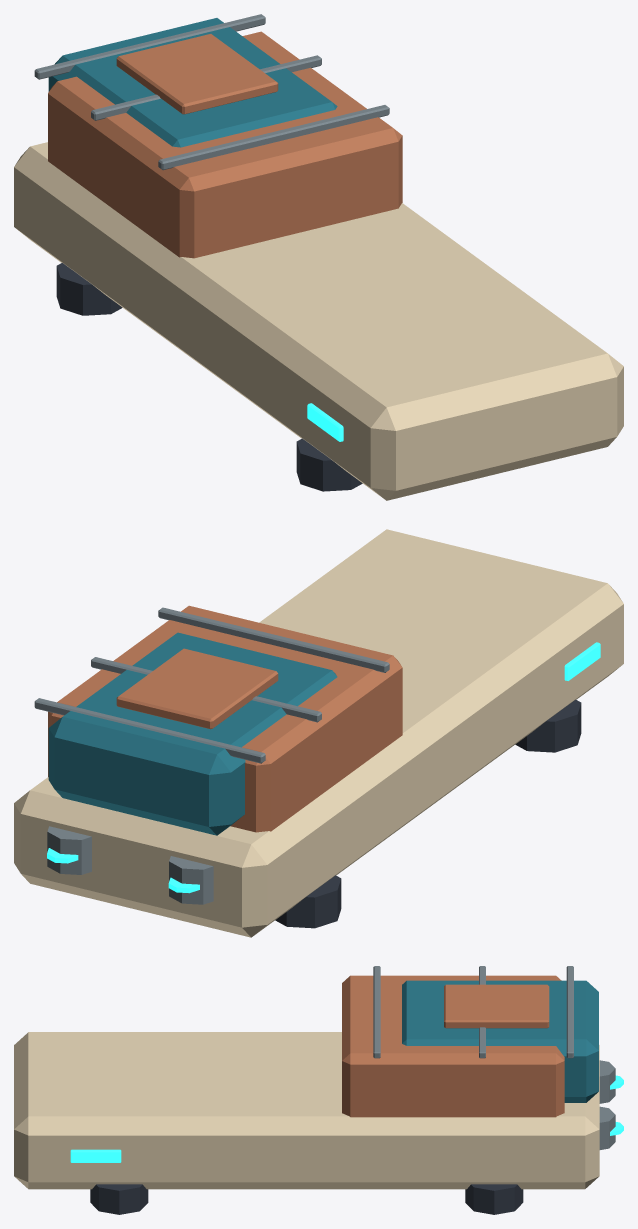
Rendered from vehicles_011_seed11.glb.
3 renders of one model, top to bottom at view 1: azimuth 30°, elevation 25°; view 2: azimuth 150°, elevation 25°; view 3: azimuth 270°, elevation 25°, orthographic. The views are drawn at different scales.
Parts seen in each view (by area): view 1: vehicles_011_seed11; view 2: vehicles_011_seed11; view 3: vehicles_011_seed11.
Boxes of the visible parts, bbox=[...] form: vehicles_011_seed11: bbox=[14, 14, 623, 500]; vehicles_011_seed11: bbox=[14, 529, 623, 937]; vehicles_011_seed11: bbox=[14, 966, 623, 1214].
Bounding box in the file's own units: 2.07 × 1.49 × 5.05.
